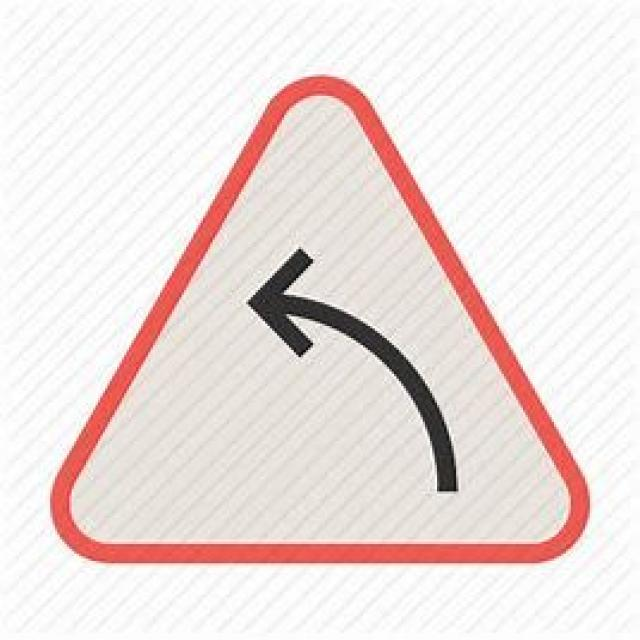LEFT_HAND_CURVE: (50, 69, 590, 561)
